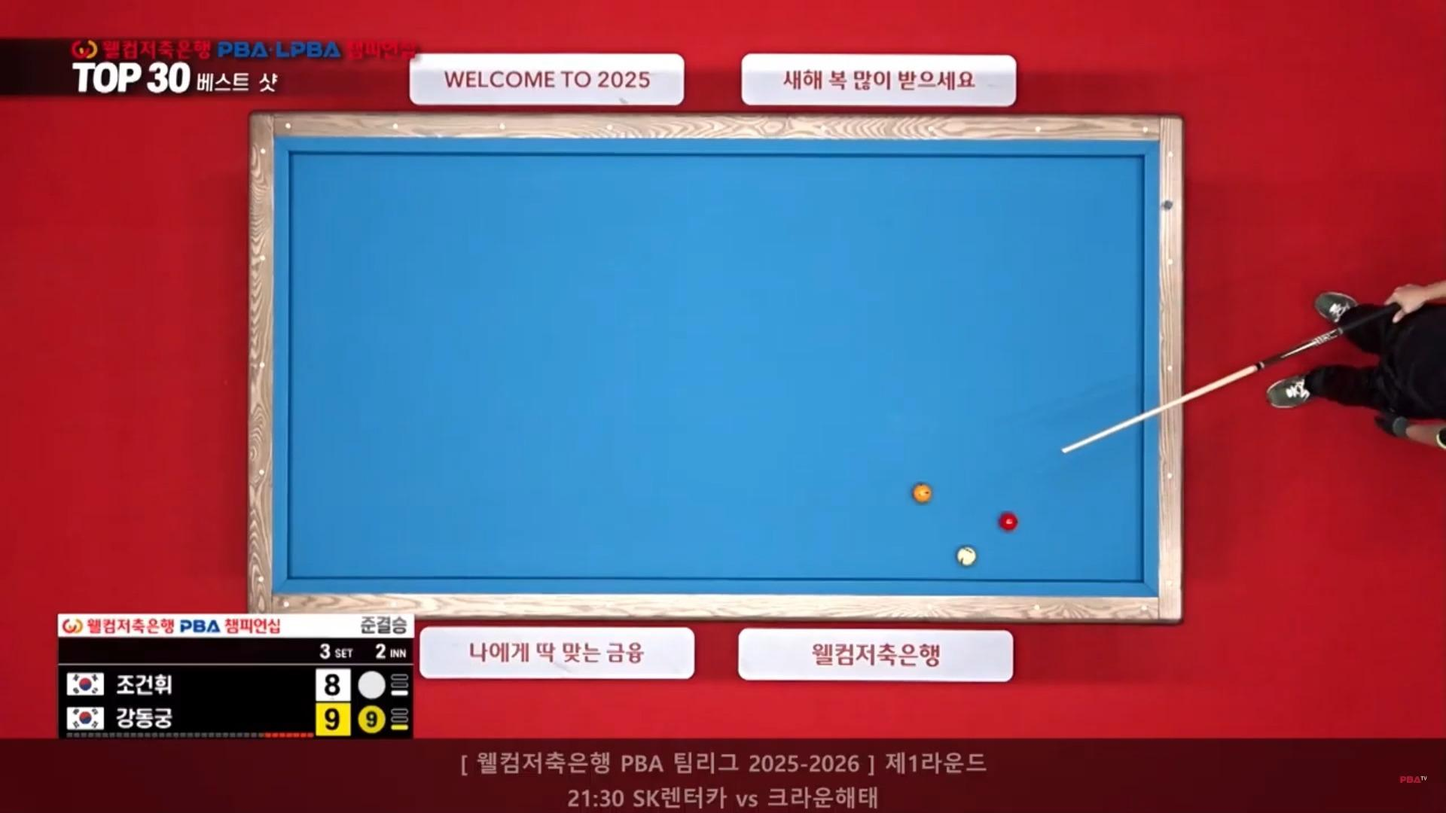White: (955, 546, 979, 566)
billiard-ball-Red: (995, 509, 1021, 534)
billiard-ball-Yellow: (911, 481, 934, 504)
